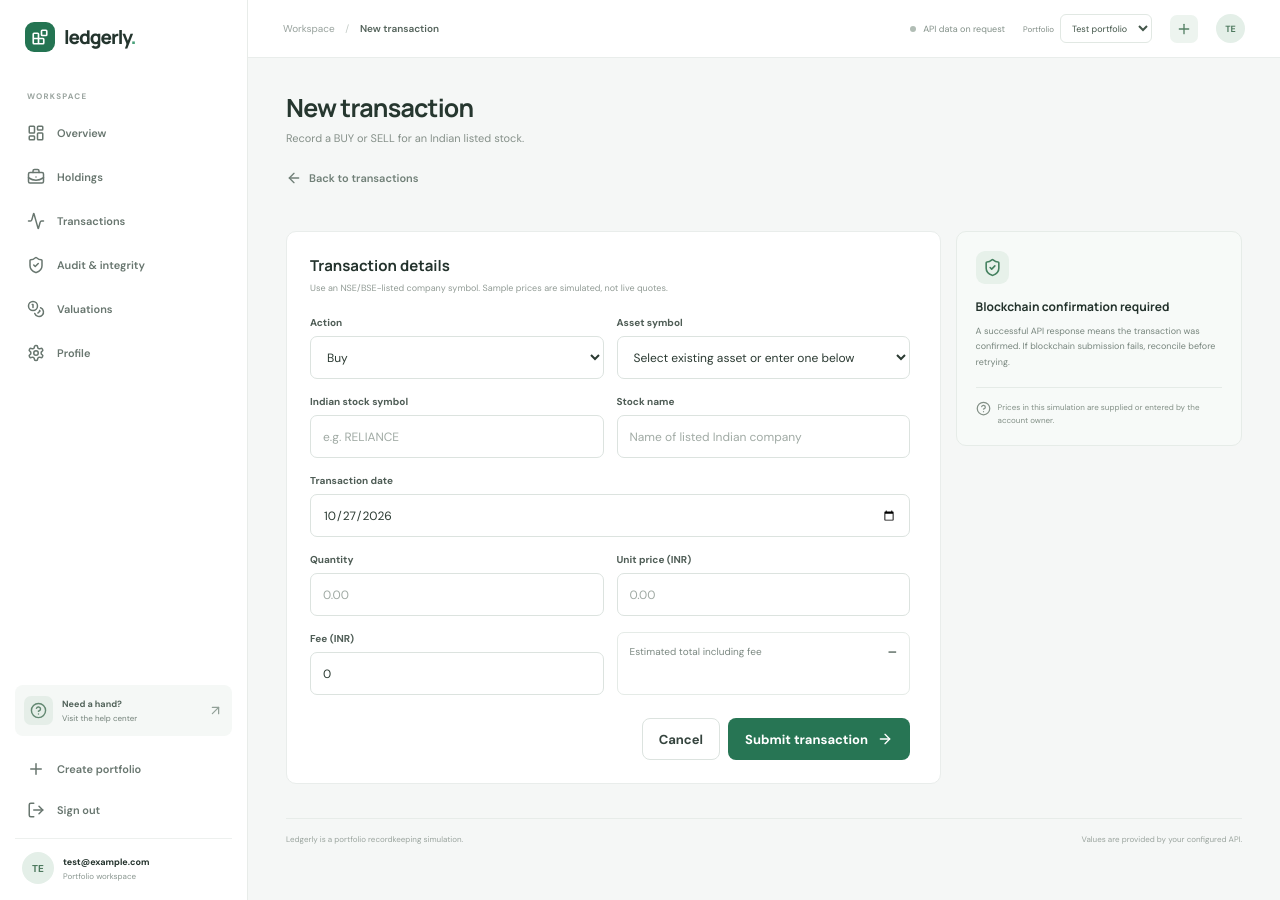
Test case: portfolio transaction form integration › posts the exact portfolio transaction shape and displays the backend failure
Type "reliance" into the field labelled "Indian stock symbol" at (457, 436), box [310,415,604,458]
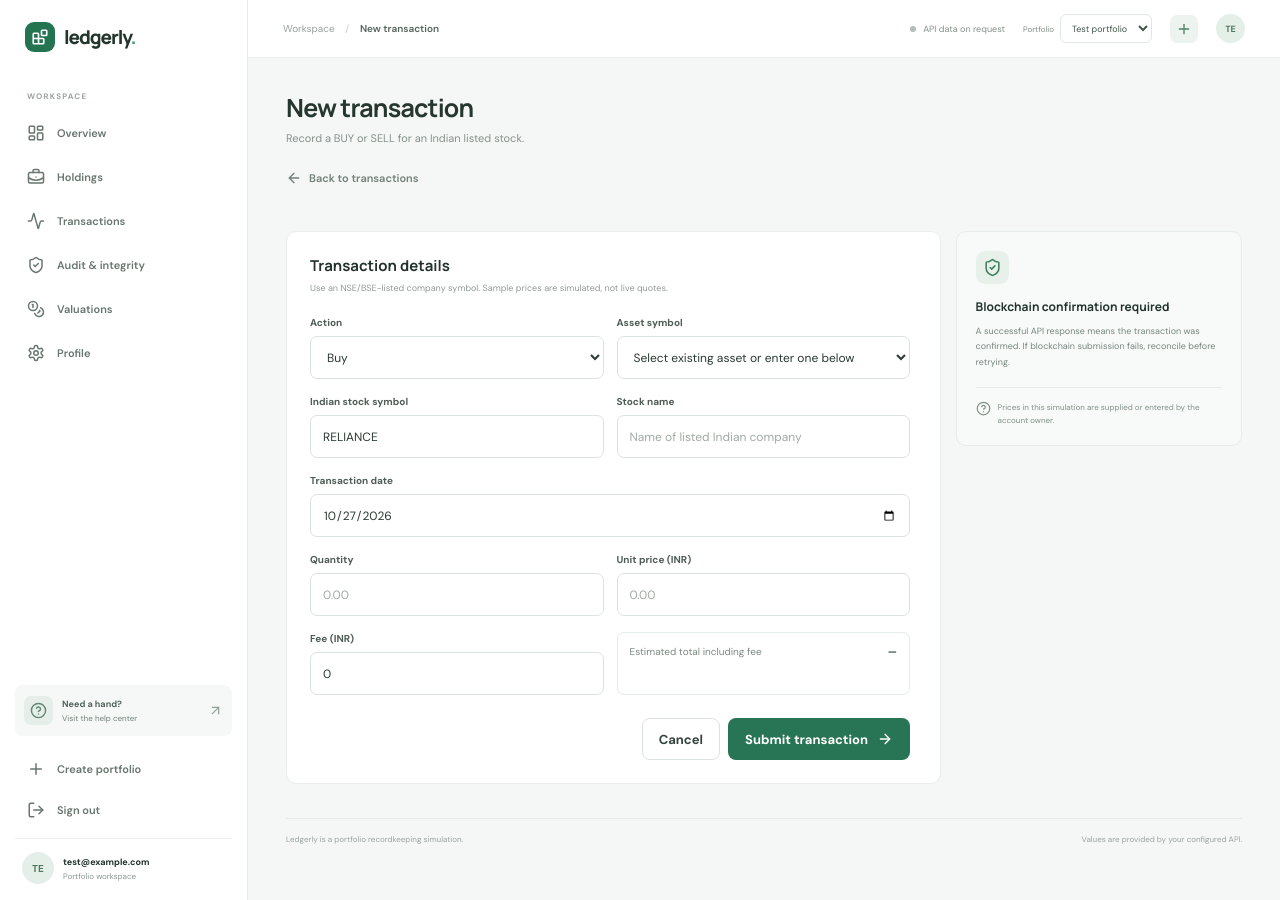
Type "Reliance Industries Limited" into the field labelled "Stock name" at (763, 436), box [616,415,910,458]
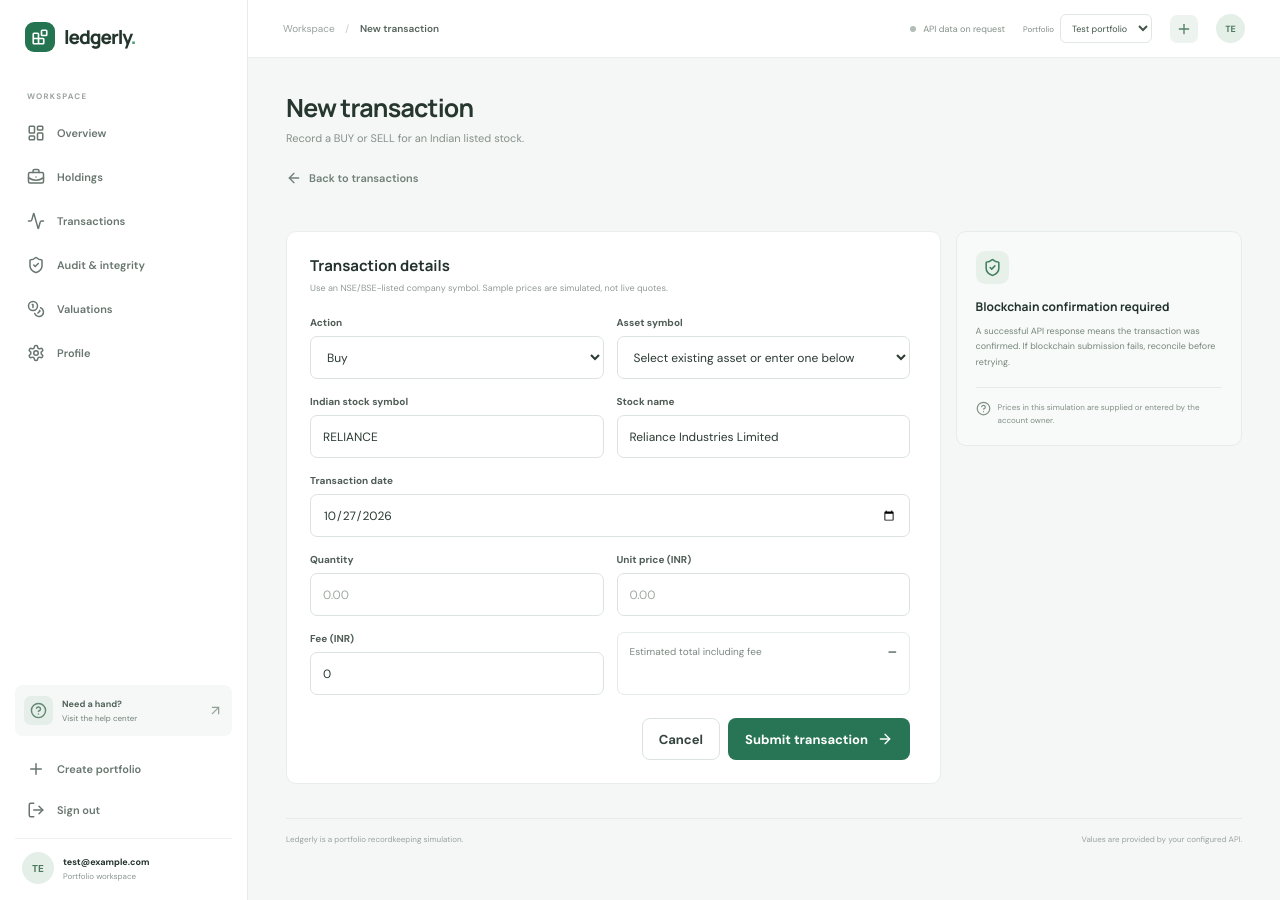
Type "2" into the number field labelled "Quantity" at (457, 594), box [310,573,604,616]
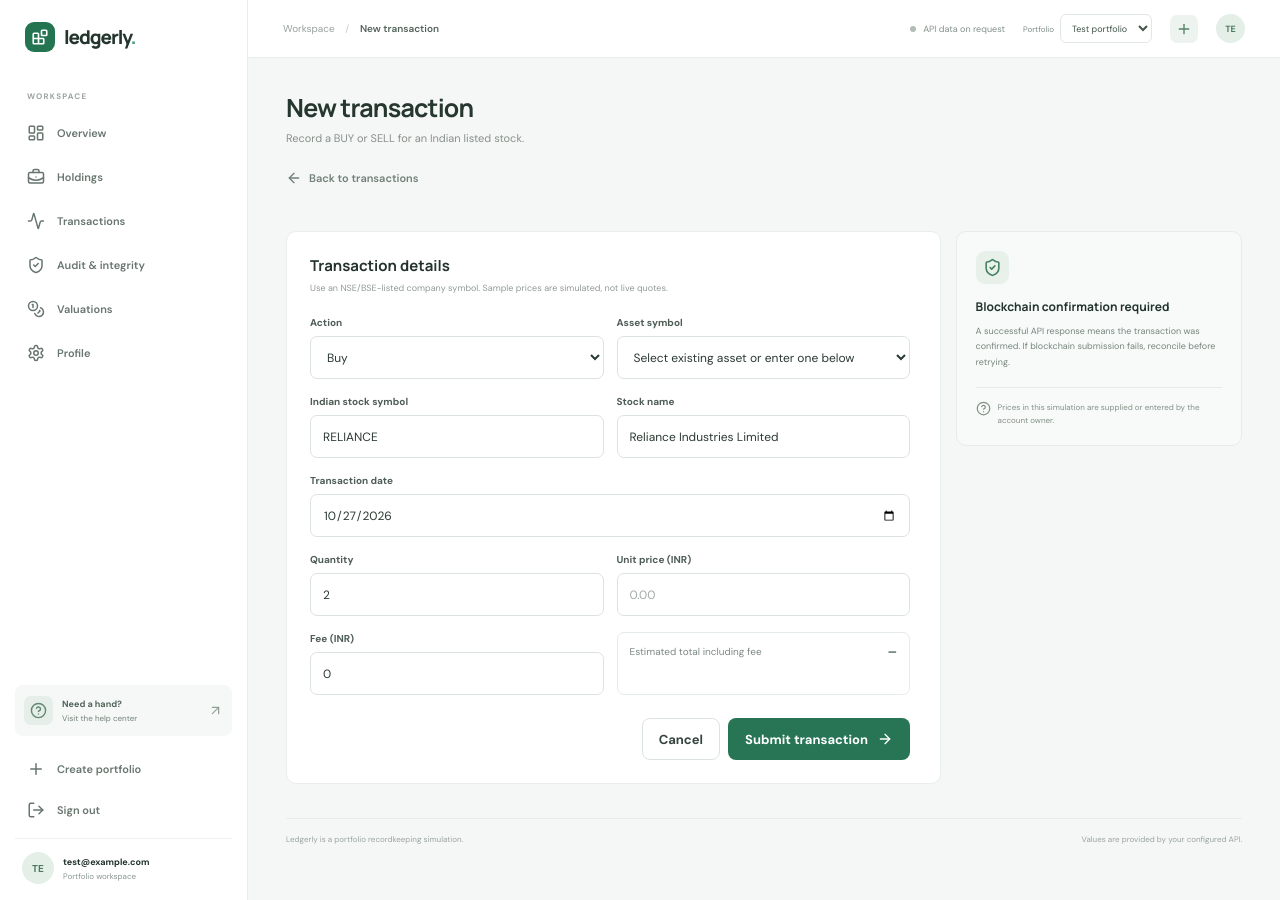
Type "10" into the number field labelled "Unit price (INR)" at (763, 594), box [616,573,910,616]
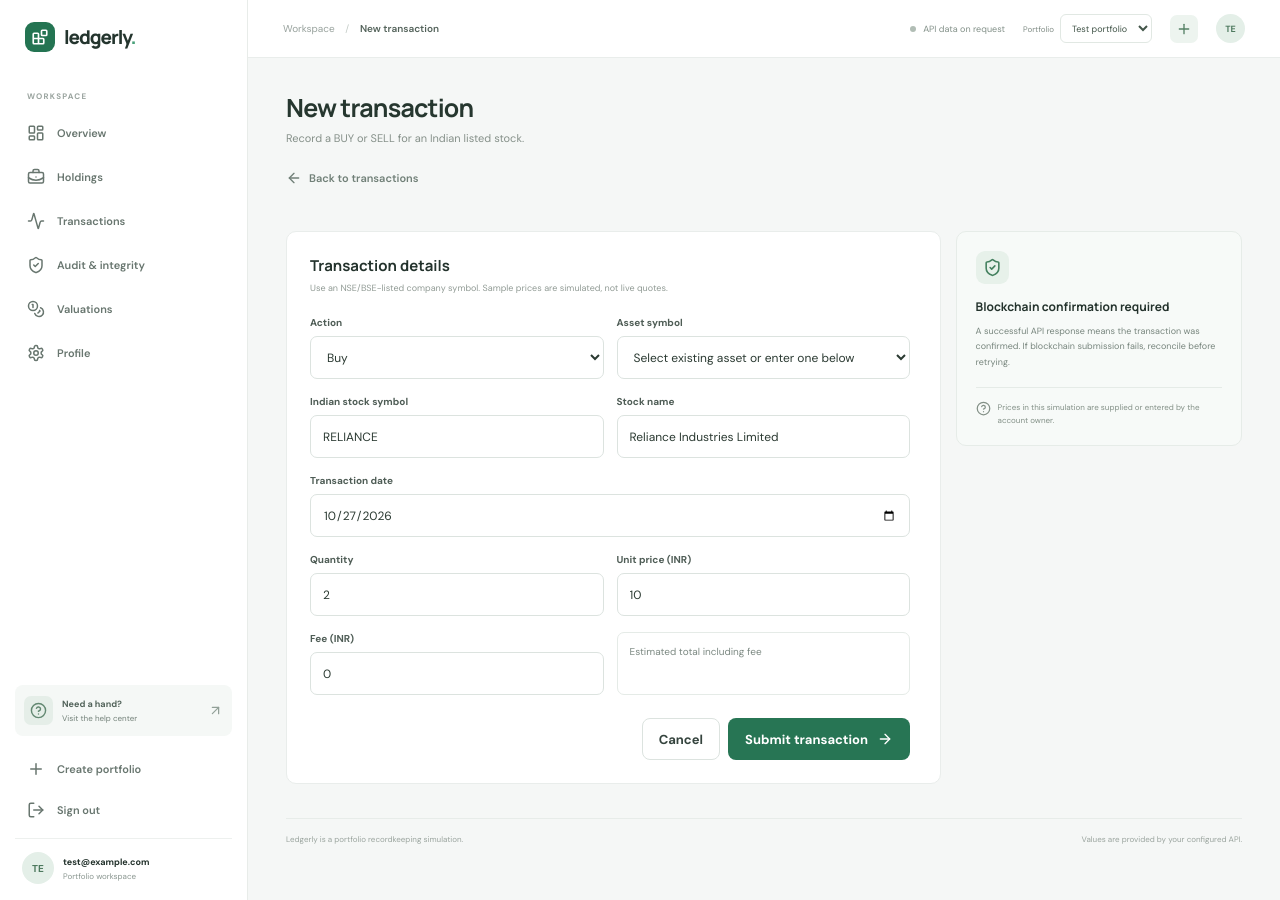
Type "2026-10-20" into the date field labelled "Transaction date" at (610, 516), box [310,494,910,537]
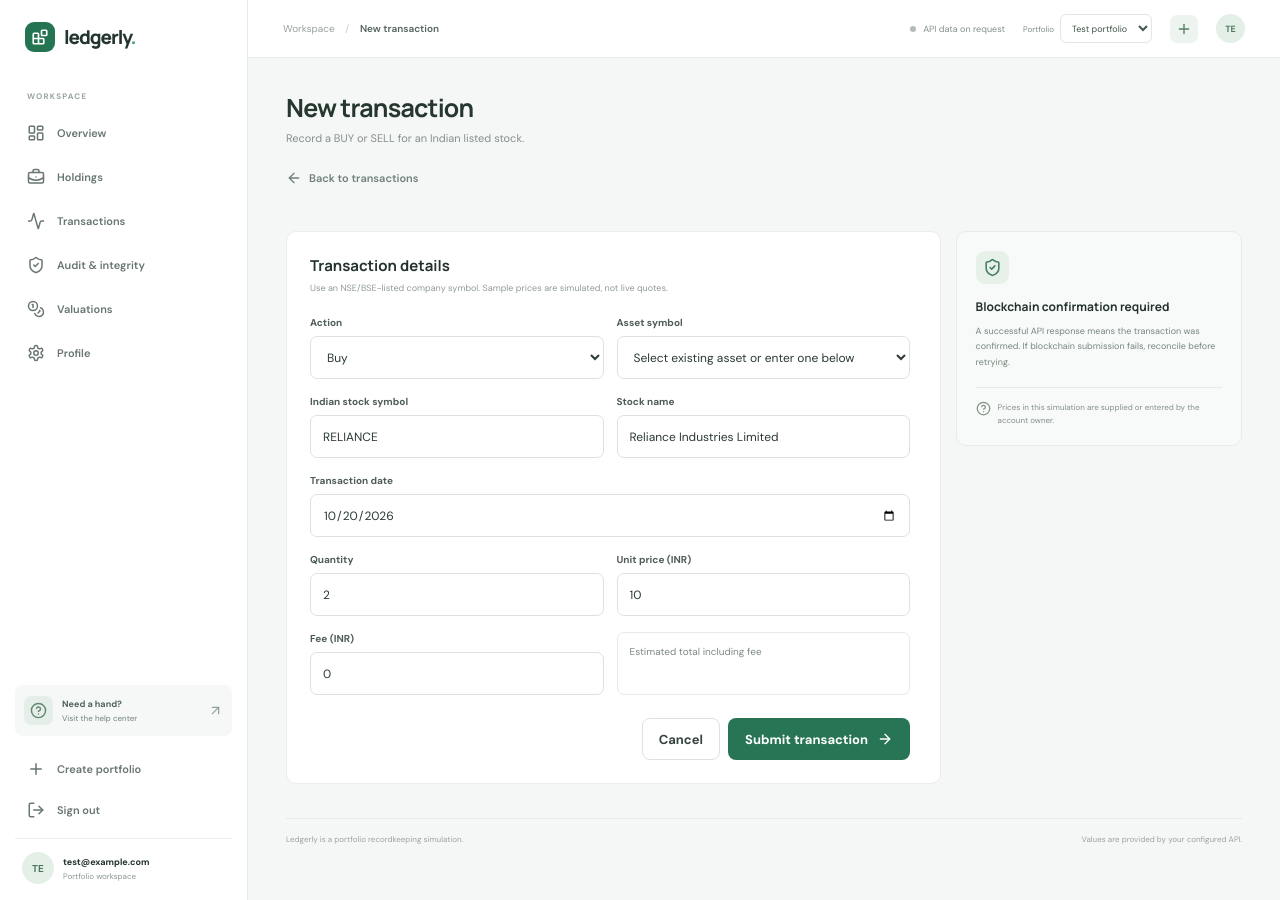
Click the button "Submit transaction" at (819, 739), box [728,718,910,760]
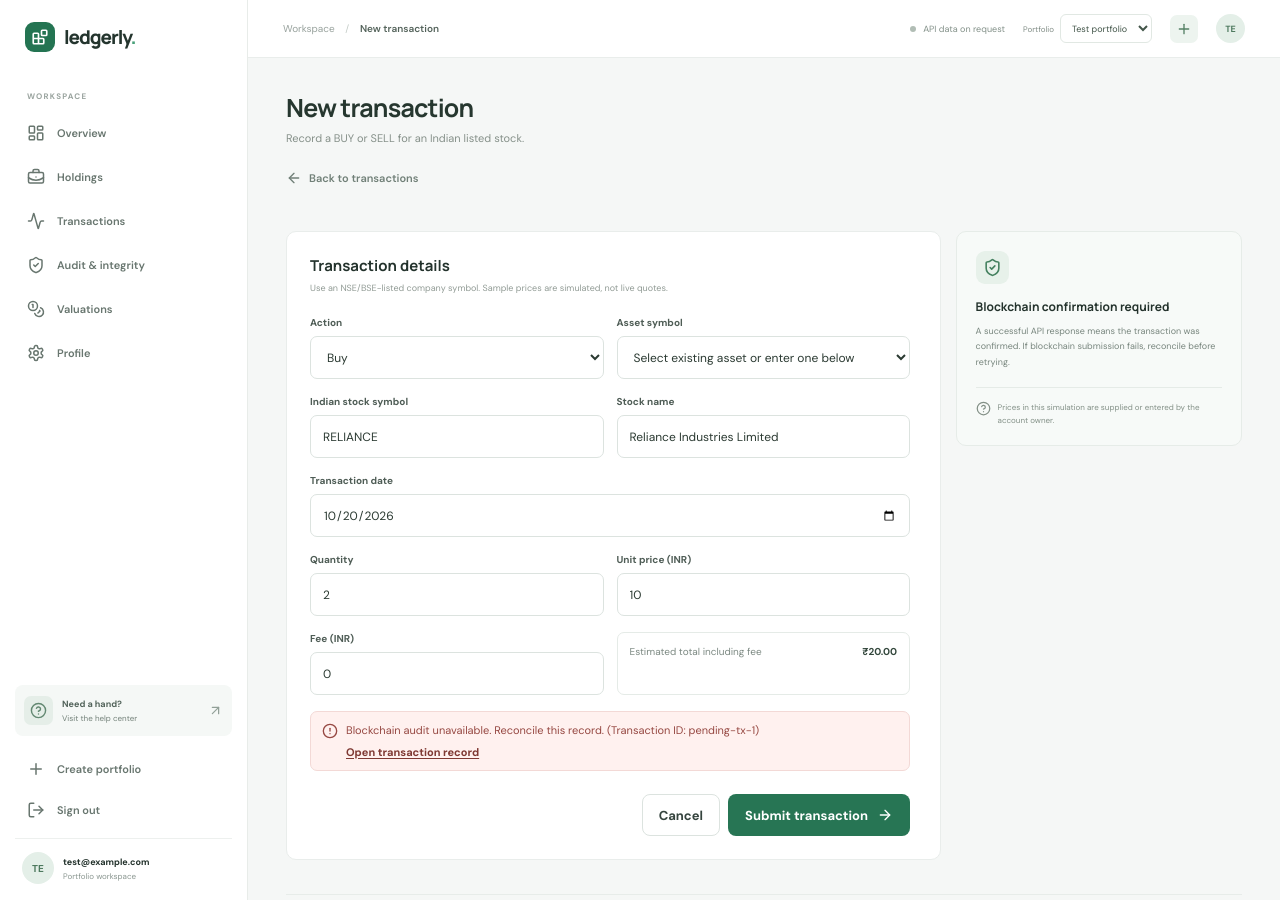
Expected: the message shows "Blockchain audit unavailable. Reconcile this record. (Transaction ID: pending-tx-1)", [346,723,759,737]
